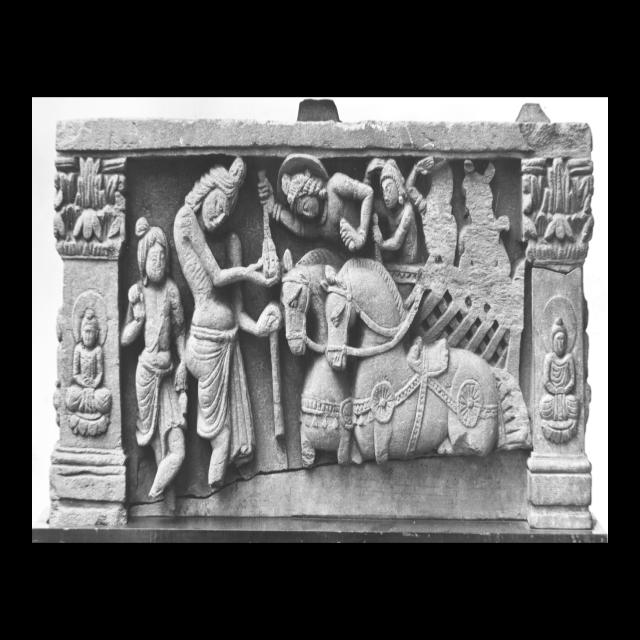buddha-sitting: (64, 292, 118, 439)
